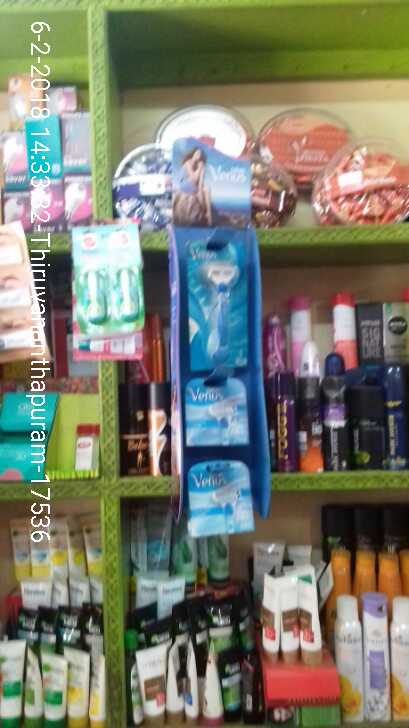venus: (186, 243, 249, 366), (187, 457, 255, 530), (182, 377, 248, 443)
